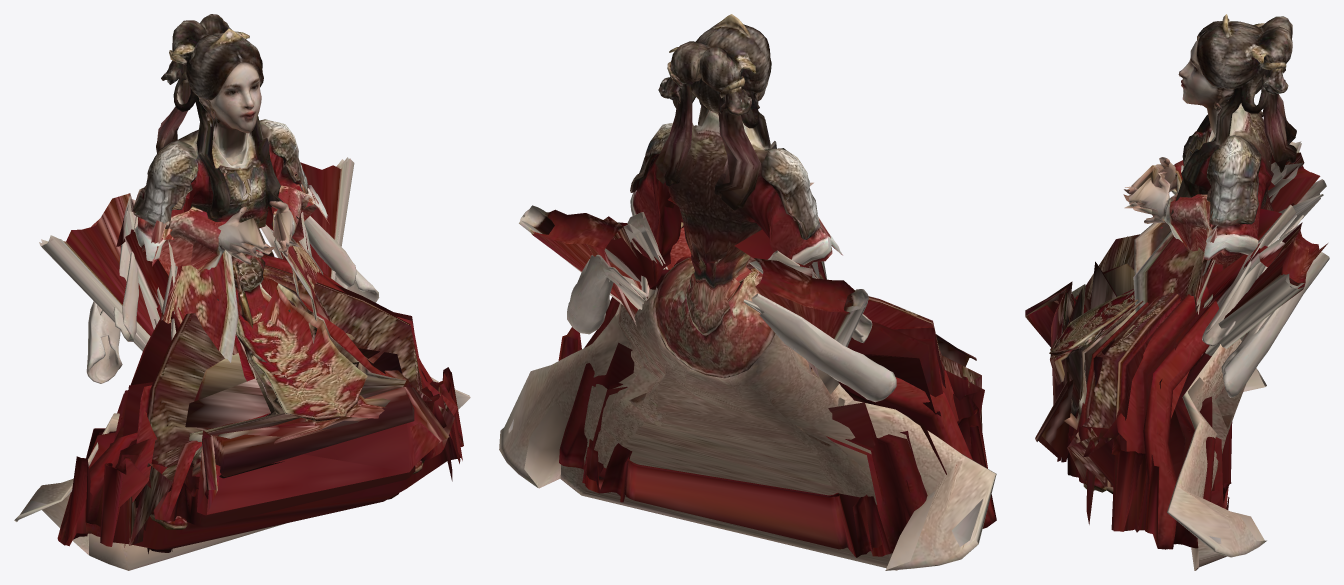
Rendered from diao-chan.glb.
3 views of the same model, side by side, from view 1: azimuth 30°, elevation 25°; view 2: azimuth 150°, elevation 25°; view 3: azimuth 270°, elevation 25° (orthographic). The views are drawn at different scales.
Size of the model in its own units: 1.88 by 2.05 by 1.15.
1 material, 1 textured.
